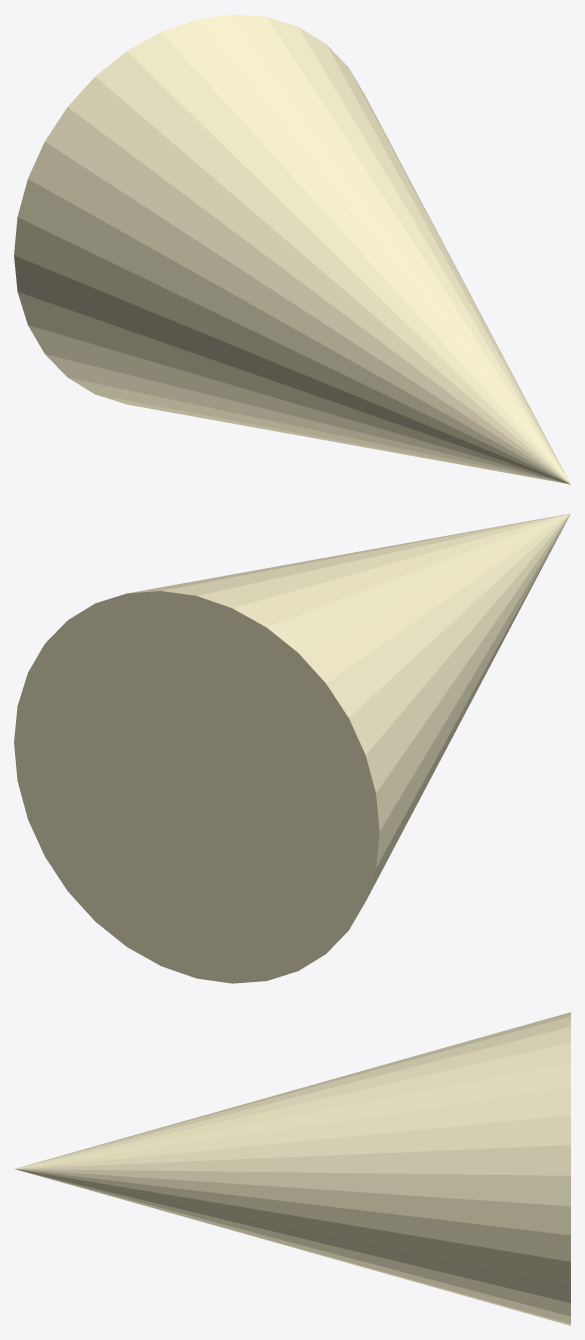
Rendered from Flashlight.fbx.
3 renders of one model, top to bottom at view 1: azimuth 30°, elevation 25°; view 2: azimuth 150°, elevation 25°; view 3: azimuth 270°, elevation 25°, orthographic. The views are drawn at different scales.
Visible parts, largest first — view 1: Flashlight; view 2: Flashlight; view 3: Flashlight.
Boxes of the visible parts, x1,y1,x2,y2 form: Flashlight: (14, 14, 570, 484); Flashlight: (14, 513, 570, 983); Flashlight: (15, 1012, 570, 1325).
Size of the model in its own units: 2934 by 2934 by 5200.
